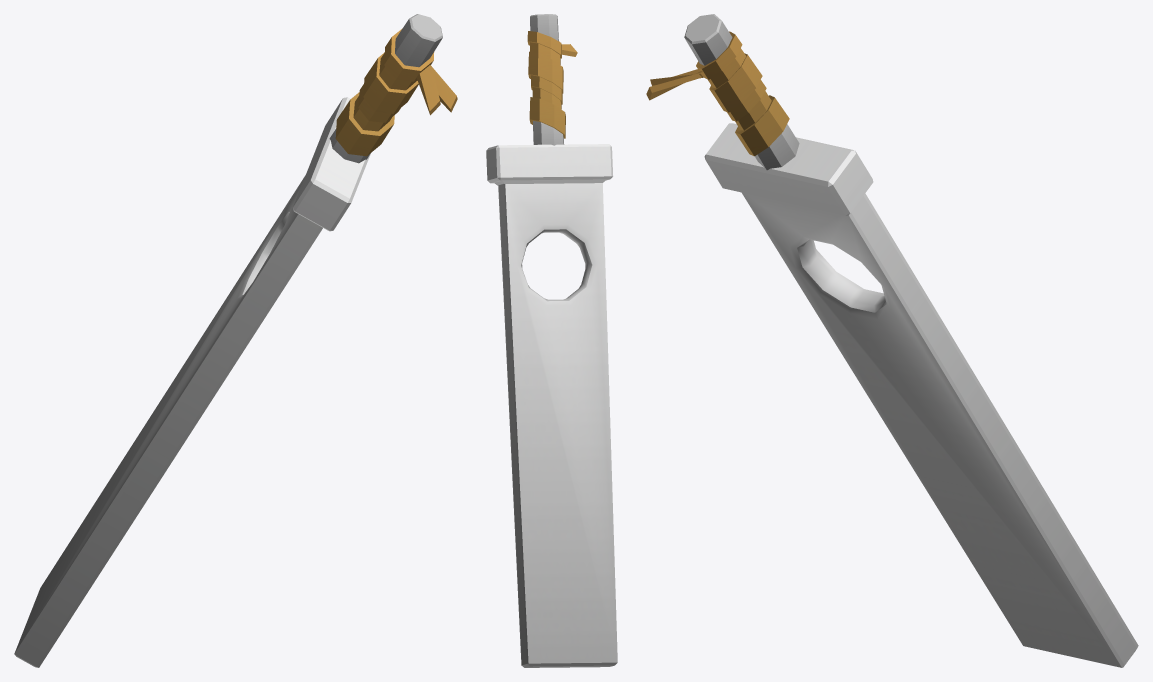
File: Sword+1.fbx
The picture shows the model from 3 angles, left to right: view 1: azimuth 30°, elevation 25°; view 2: azimuth 150°, elevation 25°; view 3: azimuth 270°, elevation 25°; orthographic projection. The views are drawn at different scales.
Parts seen in each view (by area): view 1: Sword 1; view 2: Sword 1; view 3: Sword 1.
Boxes of the visible parts, x1=… form: Sword 1: x1=14, y1=14, x2=457, y2=667; Sword 1: x1=486, y1=14, x2=617, y2=667; Sword 1: x1=646, y1=14, x2=1138, y2=667.
Bounding box in the file's own units: 72.34 × 179 × 106.
